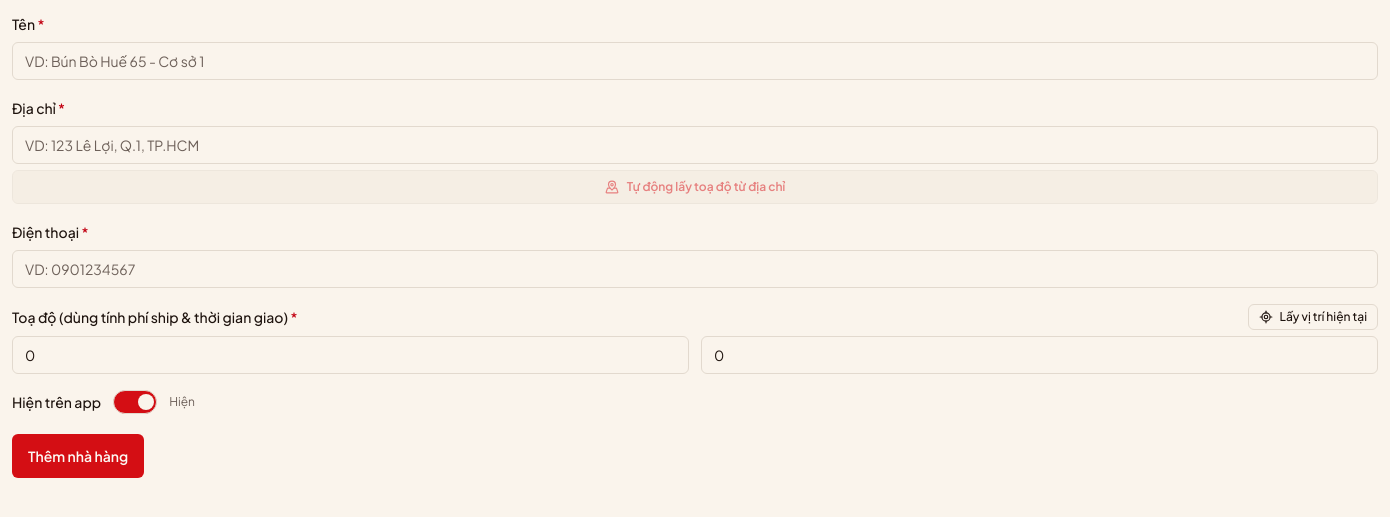
it: RestaurantForm — toạ độ (lat/lng) › rejects submission when lat/lng are both still 0 (never entered)
In the field with test id "restaurant.form.name_input": (695,61) [12,42,1378,80], type "Nhà hàng A"
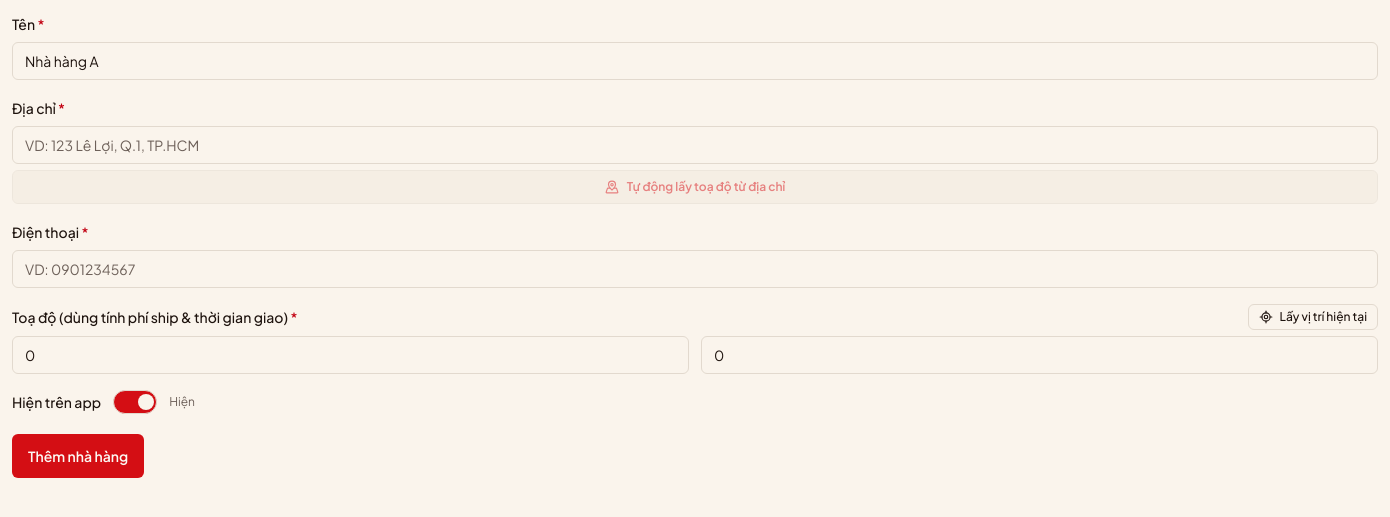
In the field with test id "restaurant.form.address_input": (695,145) [12,126,1378,164], type "123 Le Loi"
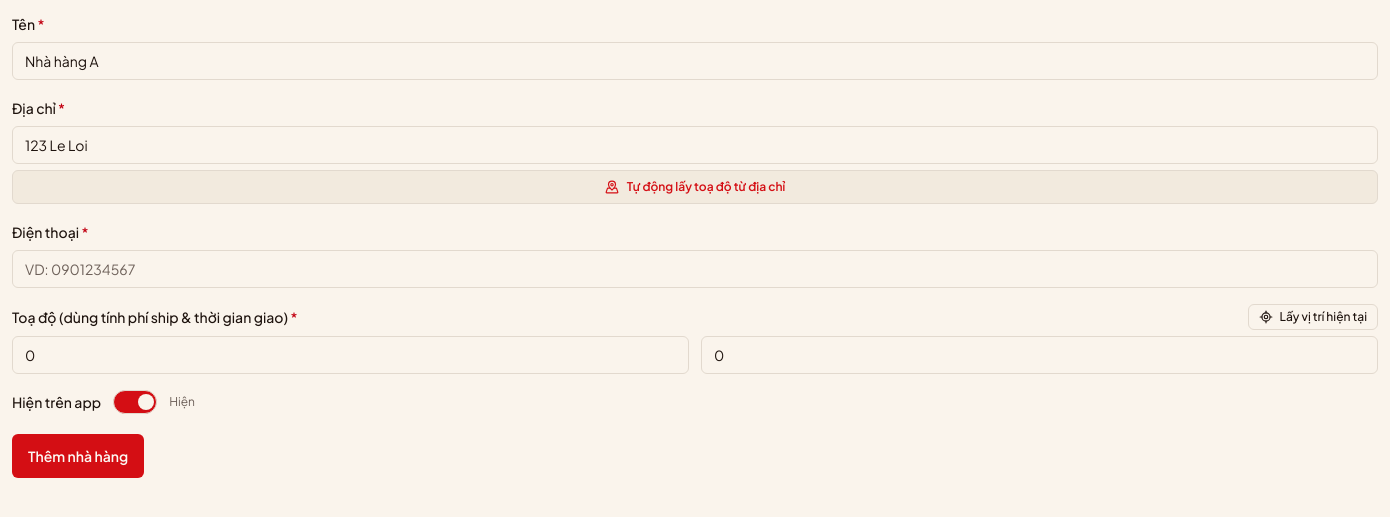
In the field with test id "restaurant.form.phone_input": (695,269) [12,250,1378,288], type "0901234567"
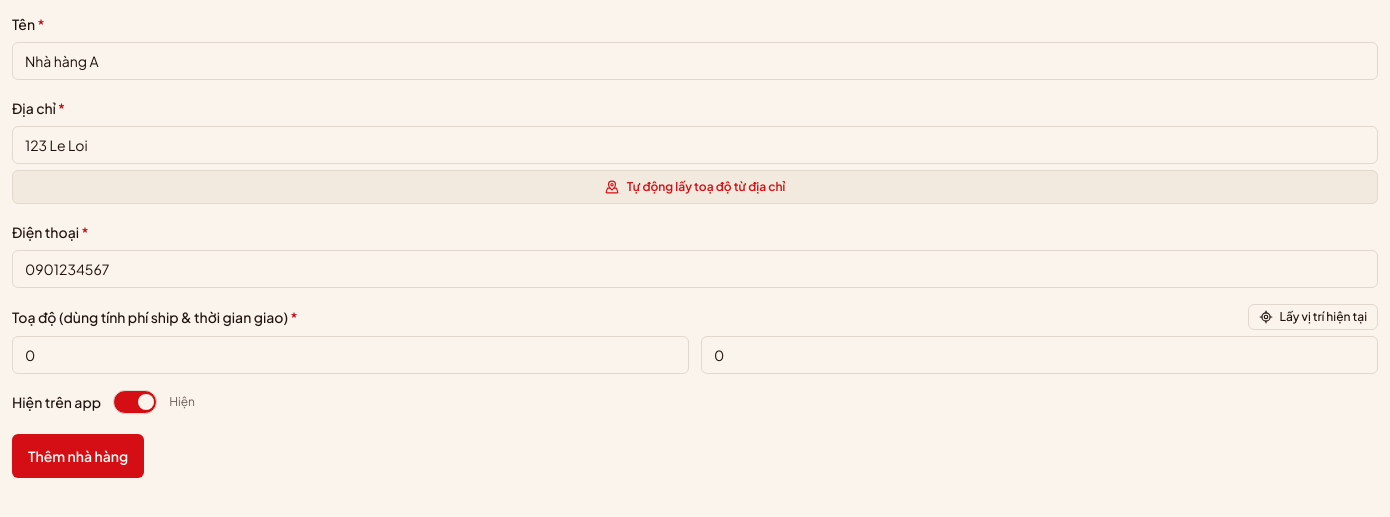
Click the button with test id "restaurant.form.save_button": (78,456) [12,434,144,478]
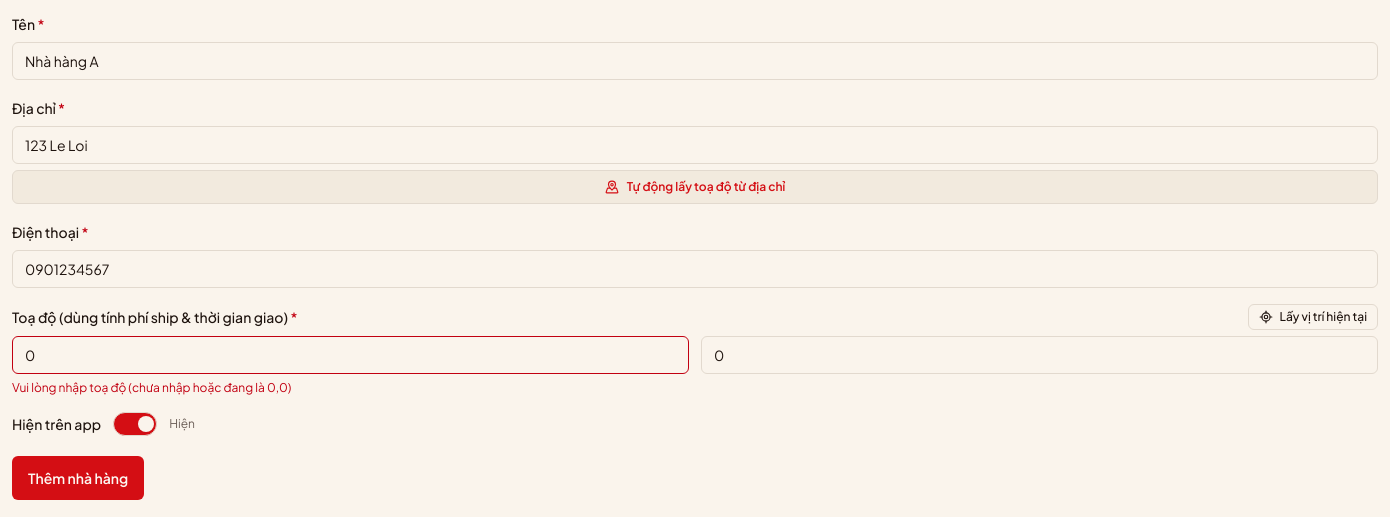
Expected: the text "Vui lòng nhập toạ độ (chưa nhập hoặc đang là 0,0)" is shown, [12,380,291,395]
